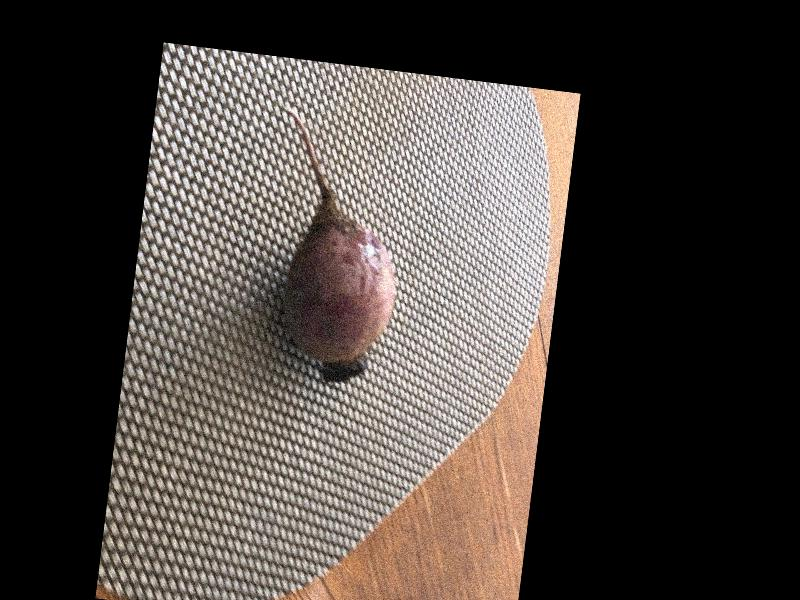Beet: (250, 105, 416, 389)
